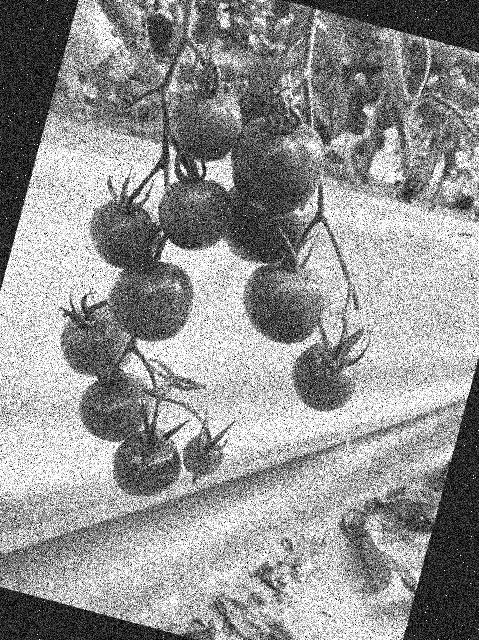l_fully_ripened: (216, 106, 334, 225), (209, 177, 318, 277)
l_green: (97, 249, 201, 352), (50, 295, 144, 387), (69, 362, 160, 451), (104, 419, 188, 505), (283, 335, 364, 419), (177, 431, 227, 481)
l_half_ripened: (230, 252, 336, 354), (147, 168, 240, 260), (160, 79, 248, 171), (78, 190, 167, 277)
